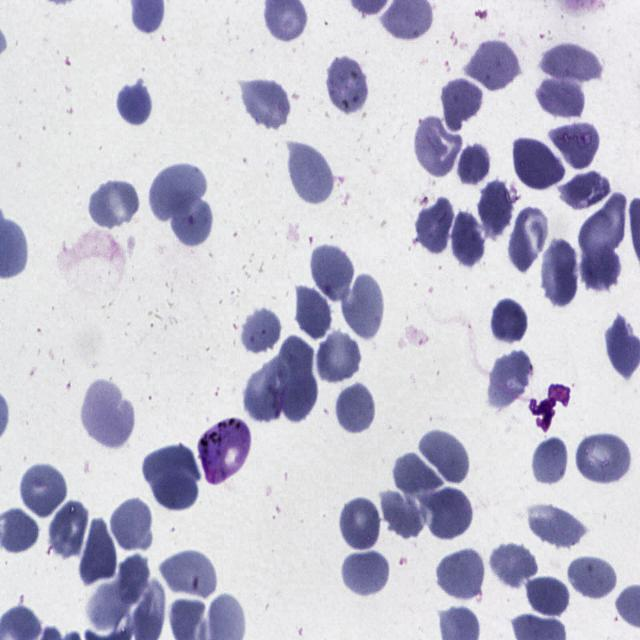difficult: (197, 417, 252, 484)
red blood cell: (81, 377, 133, 451), (149, 160, 204, 225), (143, 444, 197, 509), (286, 139, 336, 209), (578, 192, 628, 262), (510, 132, 566, 192), (462, 40, 524, 94), (412, 114, 463, 179), (575, 431, 634, 487), (417, 427, 471, 487), (242, 356, 290, 423), (342, 271, 386, 343), (276, 353, 320, 425), (160, 549, 219, 602), (418, 485, 474, 540), (308, 242, 356, 304), (486, 348, 533, 411), (539, 237, 579, 311), (18, 461, 68, 520), (87, 177, 140, 232), (434, 546, 486, 602), (240, 76, 292, 132), (548, 117, 600, 172), (526, 502, 588, 548), (538, 41, 604, 84), (325, 53, 370, 116), (508, 204, 550, 271), (414, 193, 456, 257), (109, 496, 155, 554), (315, 329, 362, 385), (48, 497, 90, 559), (338, 495, 382, 553), (340, 549, 391, 599), (79, 518, 117, 584), (293, 280, 333, 342), (488, 541, 537, 590), (440, 76, 482, 132), (566, 556, 618, 601), (382, 490, 426, 543), (448, 208, 486, 269), (477, 178, 515, 239), (239, 304, 283, 356), (334, 382, 376, 436), (391, 452, 446, 493), (535, 77, 586, 121), (524, 575, 572, 619), (171, 198, 213, 248), (559, 170, 610, 210), (490, 296, 530, 346), (532, 435, 569, 488), (578, 248, 622, 291), (116, 79, 154, 128), (456, 140, 492, 190), (117, 553, 151, 603)
